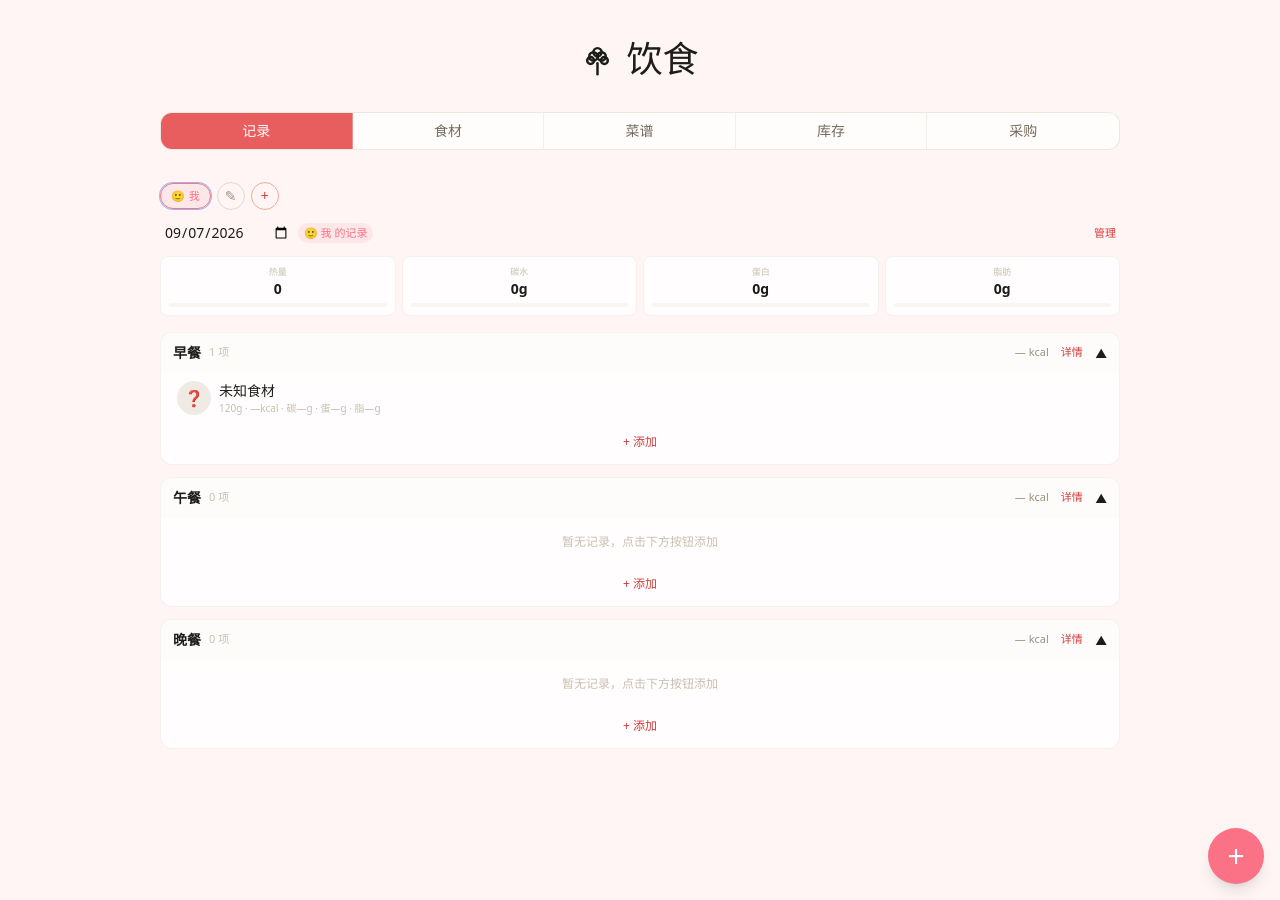
Test case: 孤儿记录（食材已不存在）：显示与编辑 › 引用已删除食材的记录在列表中显示兜底名且能打开编辑
Expected: the element with test id "log-row" shows "未知食材", top-left (219, 380), bottom-right (275, 400)
Click the element with test id "log-row".
click(279, 398)  # box top-left (177, 380), bottom-right (381, 415)
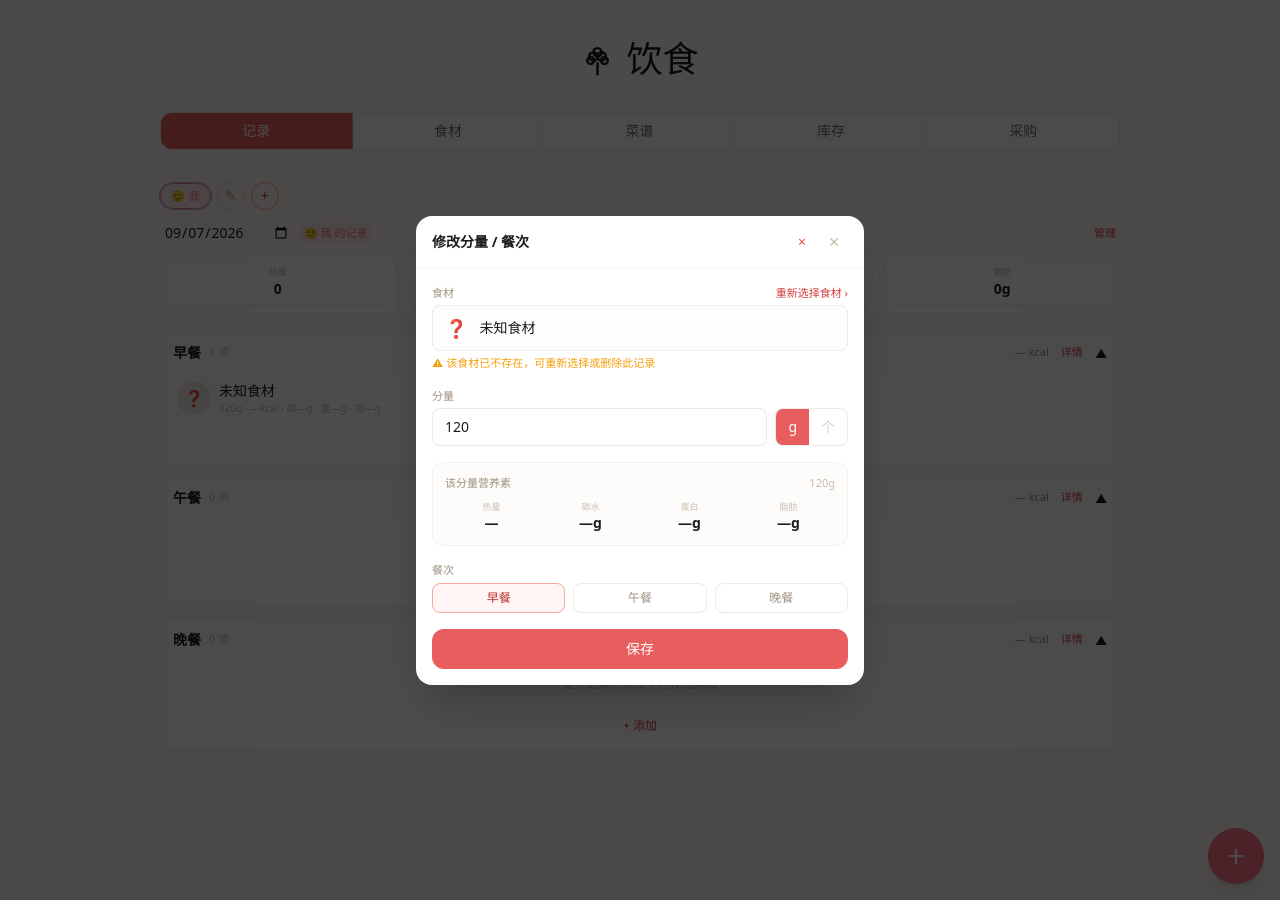
Result: the element with test id "edit-sheet" is shown
Result: the element with test id "edit-sheet" shows "该食材已不存在" at top-left (432, 355), bottom-right (655, 370)
Result: the element with test id "edit-sheet" shows "重新选择食材" at top-left (776, 284), bottom-right (848, 301)
